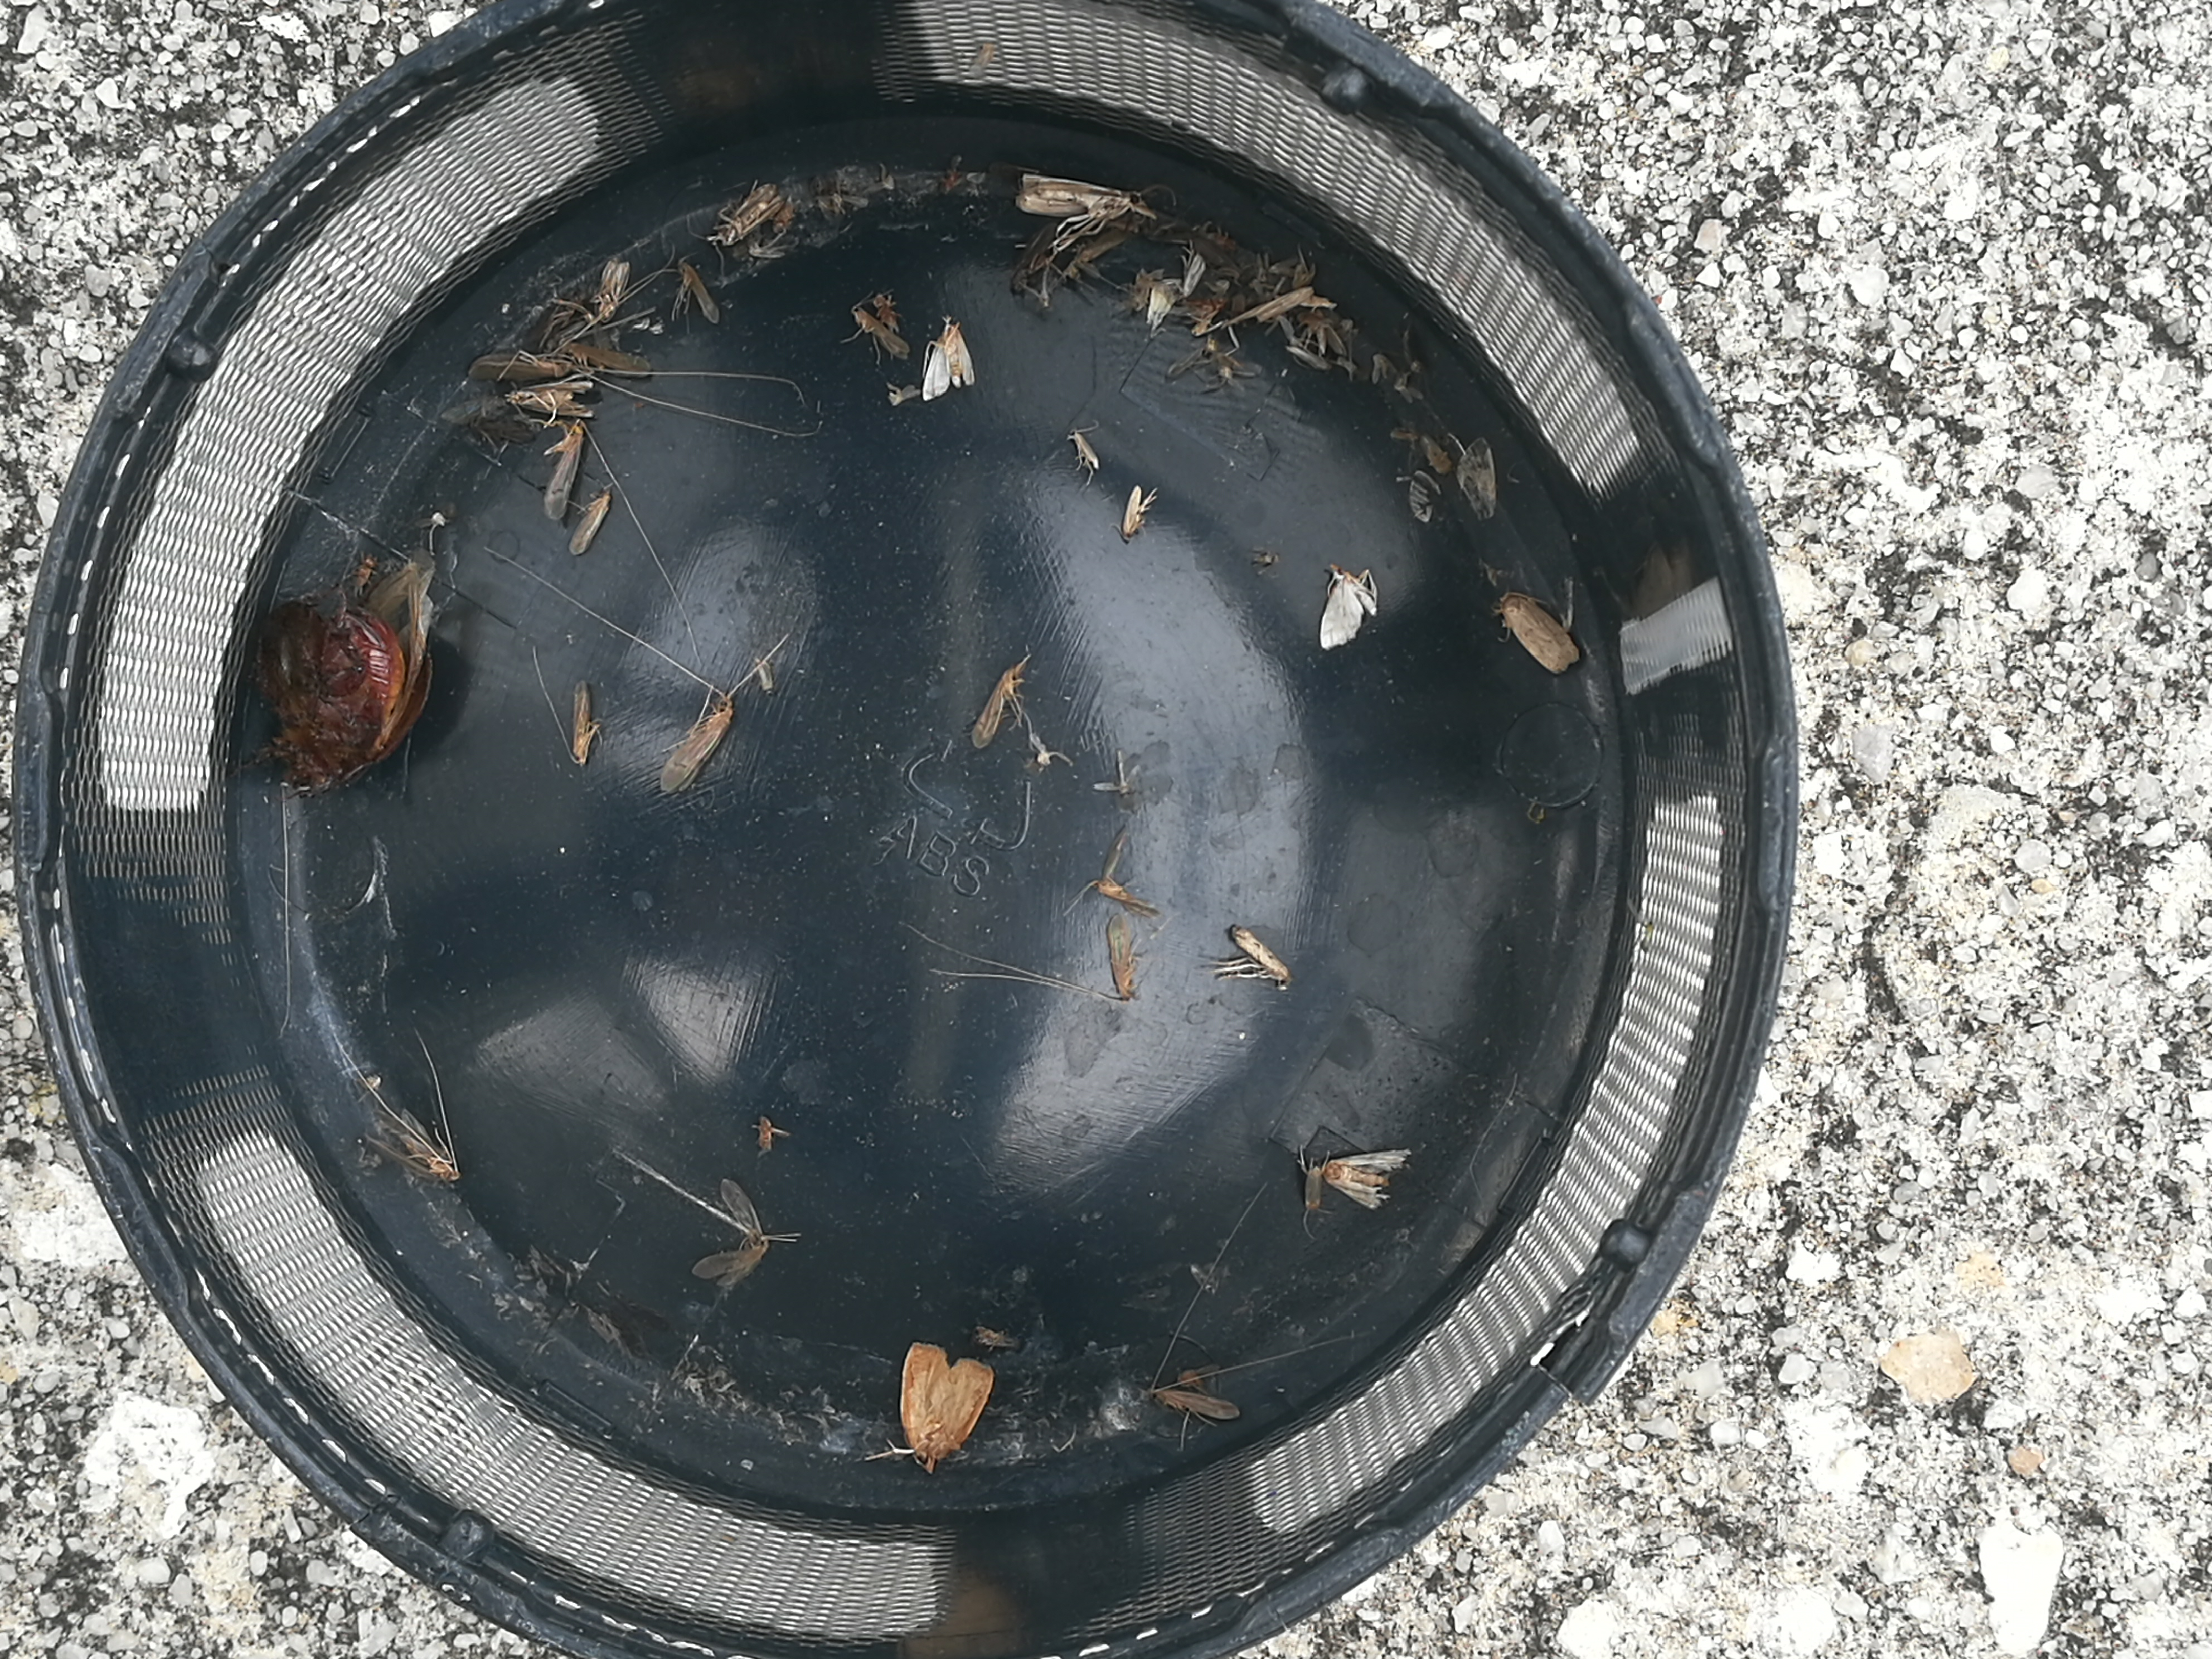beetle: (263, 603, 406, 779)
mosquito: (664, 704, 732, 791), (1017, 173, 1144, 213), (1226, 924, 1292, 985), (972, 666, 1021, 746), (716, 181, 777, 242), (559, 338, 648, 378), (547, 422, 582, 519), (514, 382, 596, 418), (855, 307, 909, 357), (571, 488, 611, 556), (1153, 1389, 1238, 1420), (674, 261, 716, 322), (1108, 915, 1134, 997), (596, 261, 625, 324), (467, 361, 573, 378), (1120, 484, 1146, 542), (1066, 429, 1101, 471), (573, 683, 590, 763)
moth: (900, 1342, 991, 1464), (691, 1178, 765, 1286), (369, 1110, 460, 1180), (1503, 592, 1581, 673), (1324, 1147, 1409, 1209), (1320, 566, 1376, 652), (923, 326, 975, 397)
